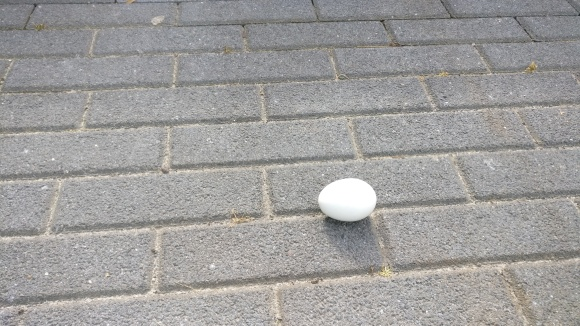egg: (318, 178, 377, 223)
